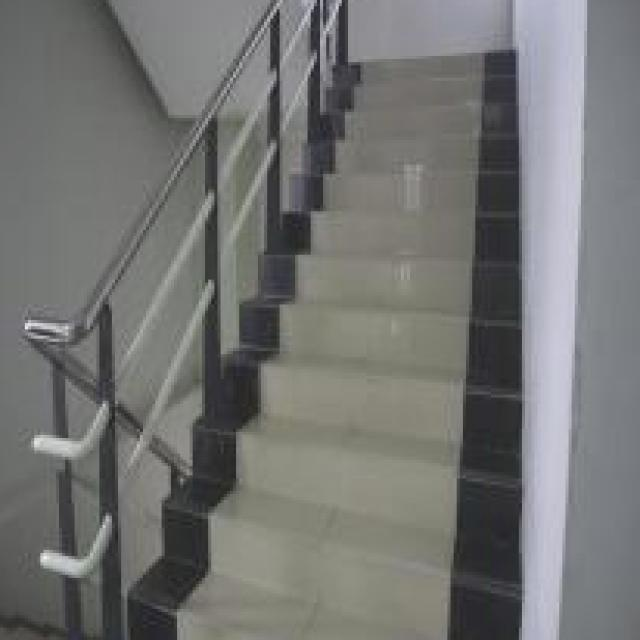upstair: (346, 41, 529, 640)
